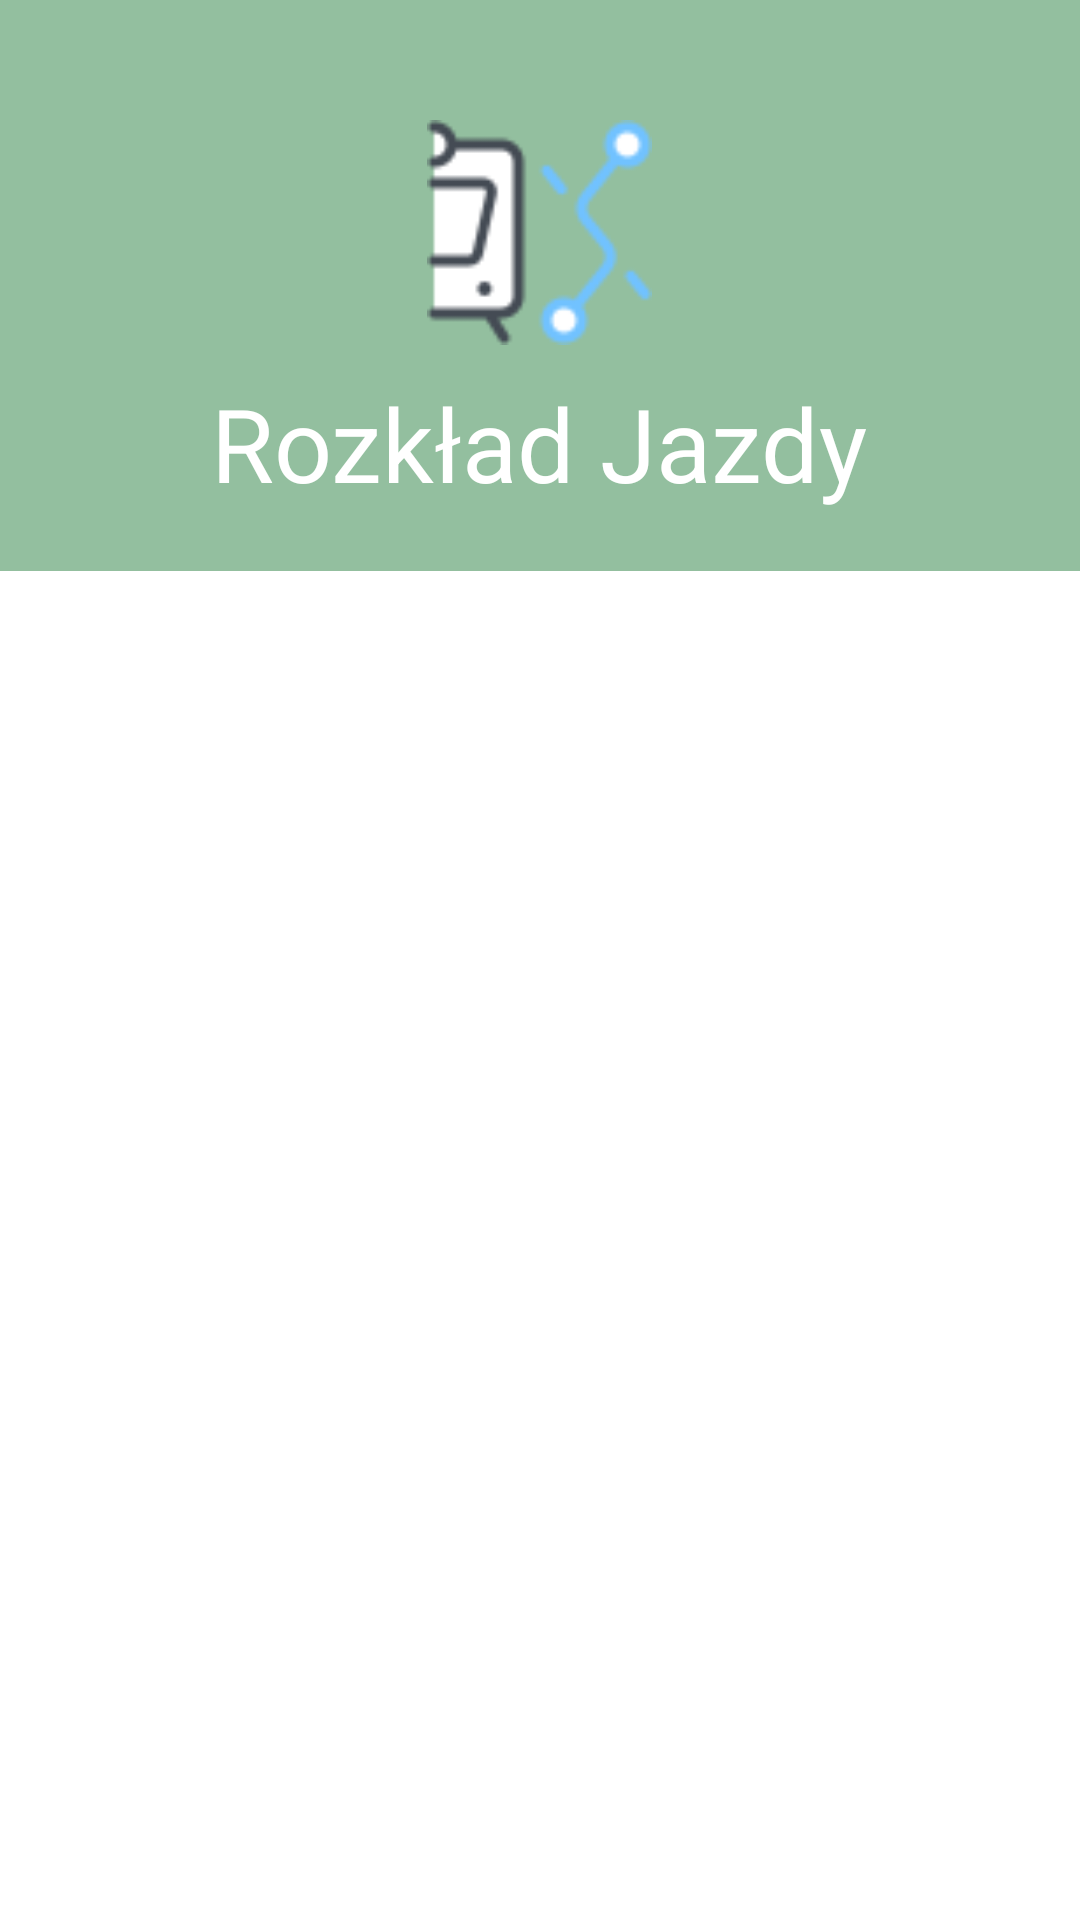

Icon click points for this 1080 × 1920 phone screenshot, format (x=x, y=y):
train route: (x=539, y=232)
